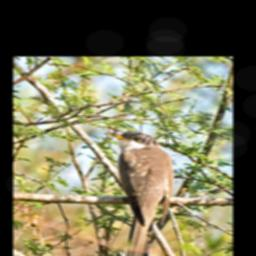Cuckoo: (105, 131, 175, 256)
